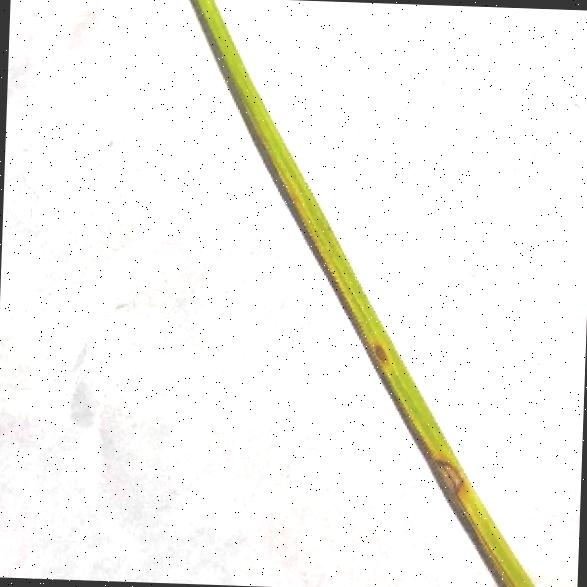Leaf_smut: (346, 305, 410, 382), (420, 439, 476, 505)
